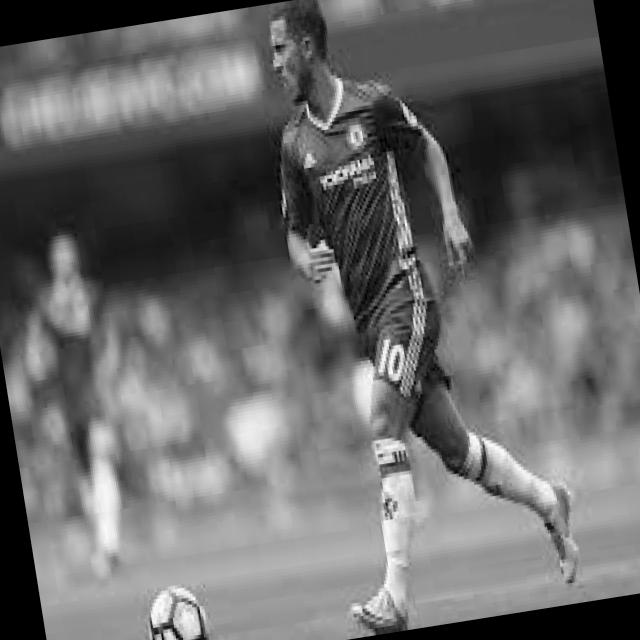football: (136, 579, 218, 640)
